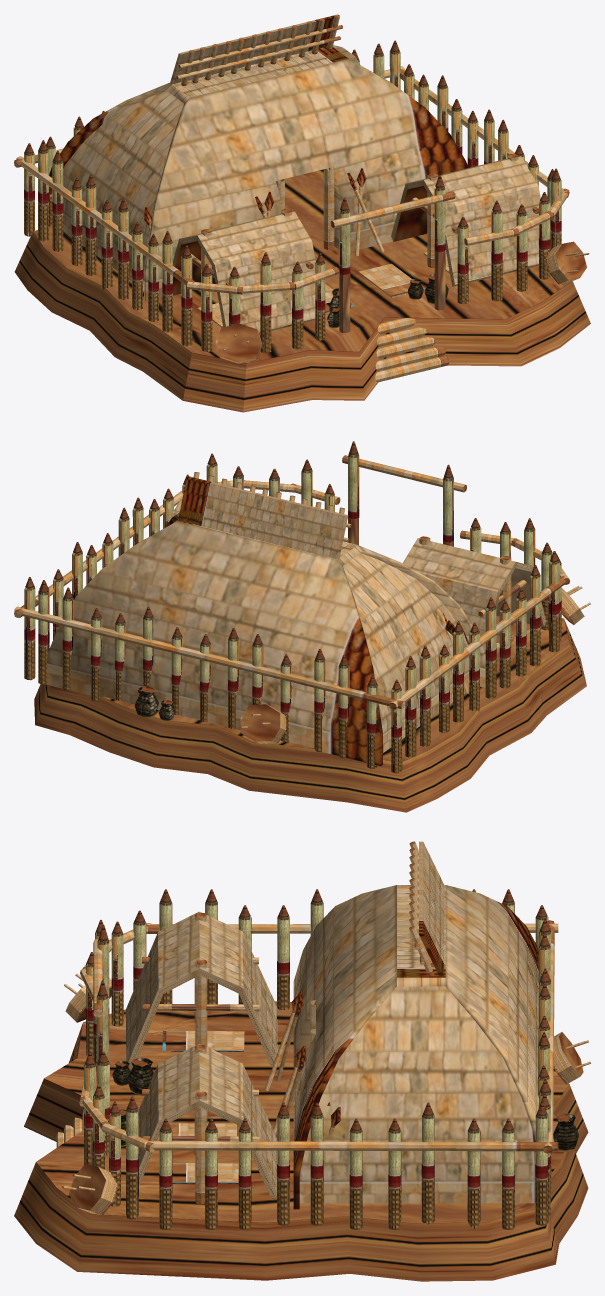
File: barracks.dae
3 views of the same model, one above another, from view 1: azimuth 30°, elevation 25°; view 2: azimuth 150°, elevation 25°; view 3: azimuth 270°, elevation 25° (orthographic). The views are drawn at different scales.
Visible parts, largest first — view 1: barracks; view 2: barracks; view 3: barracks.
Boxes of the visible parts, x1,y1,x2,y2 form: barracks: [14, 14, 590, 412]; barracks: [14, 441, 590, 812]; barracks: [14, 841, 590, 1281].
Bounding box in the file's own units: 26.48 × 27.04 × 14.43.
